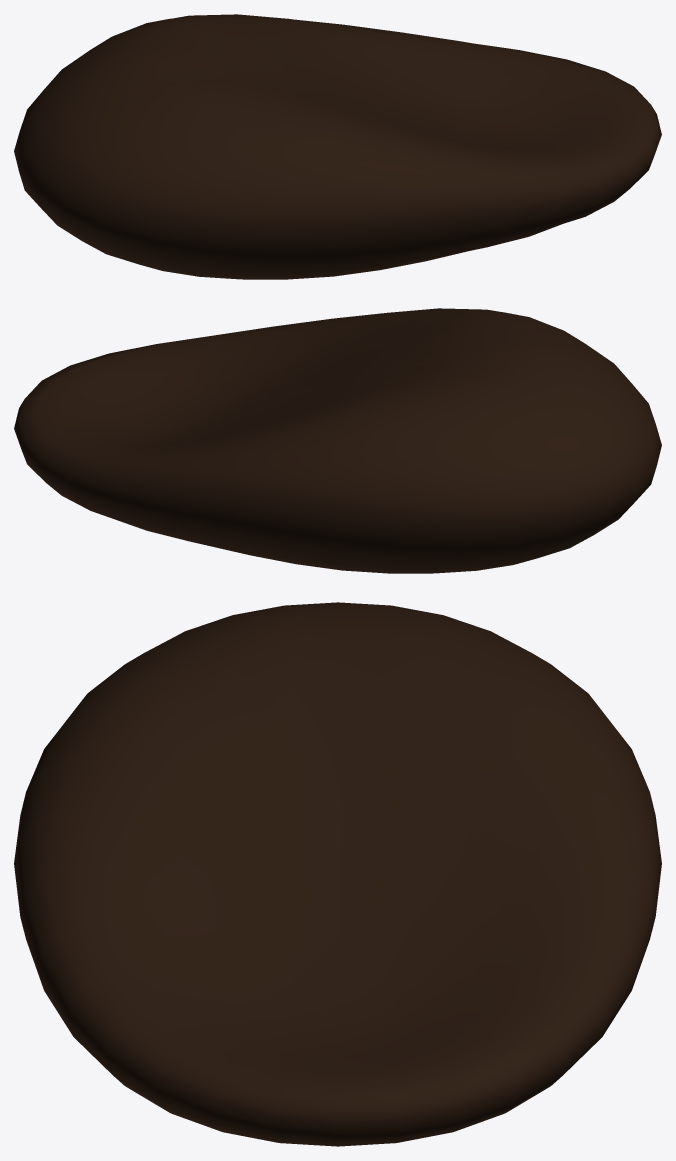
File: CoffeeDrop1.fbx
3 views of the same model, one above another, from view 1: azimuth 30°, elevation 25°; view 2: azimuth 150°, elevation 25°; view 3: azimuth 270°, elevation 25° (orthographic). The views are drawn at different scales.
Visible parts, largest first — view 1: CoffeeDrop1; view 2: CoffeeDrop1; view 3: CoffeeDrop1.
Boxes of the visible parts, x1,y1,x2,y2 form: CoffeeDrop1: (14,14,661,279); CoffeeDrop1: (14,308,661,573); CoffeeDrop1: (14,602,661,1146).
Size of the model in its own units: 0.0998 by 0.0267 by 0.0679.
